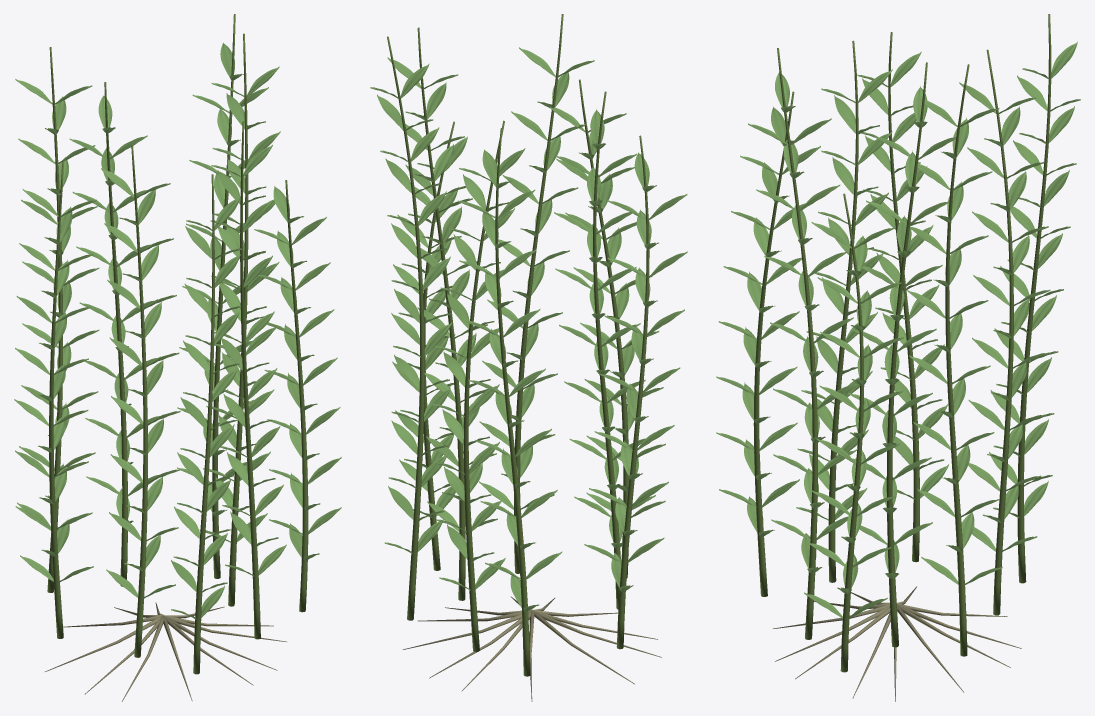
Rendered from pearlweed-desktop.glb.
3 renders of one model, left to right at view 1: azimuth 30°, elevation 25°; view 2: azimuth 150°, elevation 25°; view 3: azimuth 270°, elevation 25°, orthographic. The views are drawn at different scales.
Parts seen in each view (by area): view 1: opposite-leaf, branching-stem, anchoring-root; view 2: opposite-leaf, branching-stem, anchoring-root; view 3: opposite-leaf, branching-stem, anchoring-root.
Boxes of the visible parts, box(x1,y1,x2,y2) form: opposite-leaf: box(14, 43, 341, 619); branching-stem: box(47, 14, 308, 674); anchoring-root: box(45, 602, 286, 701); opposite-leaf: box(370, 47, 687, 611); branching-stem: box(387, 14, 649, 676); anchoring-root: box(403, 596, 661, 701); opposite-leaf: box(716, 41, 1080, 618); branching-stem: box(753, 14, 1051, 672); anchoring-root: box(773, 586, 1021, 701).
Size of the model in its own units: 0.3428 by 0.6623 by 0.345.
